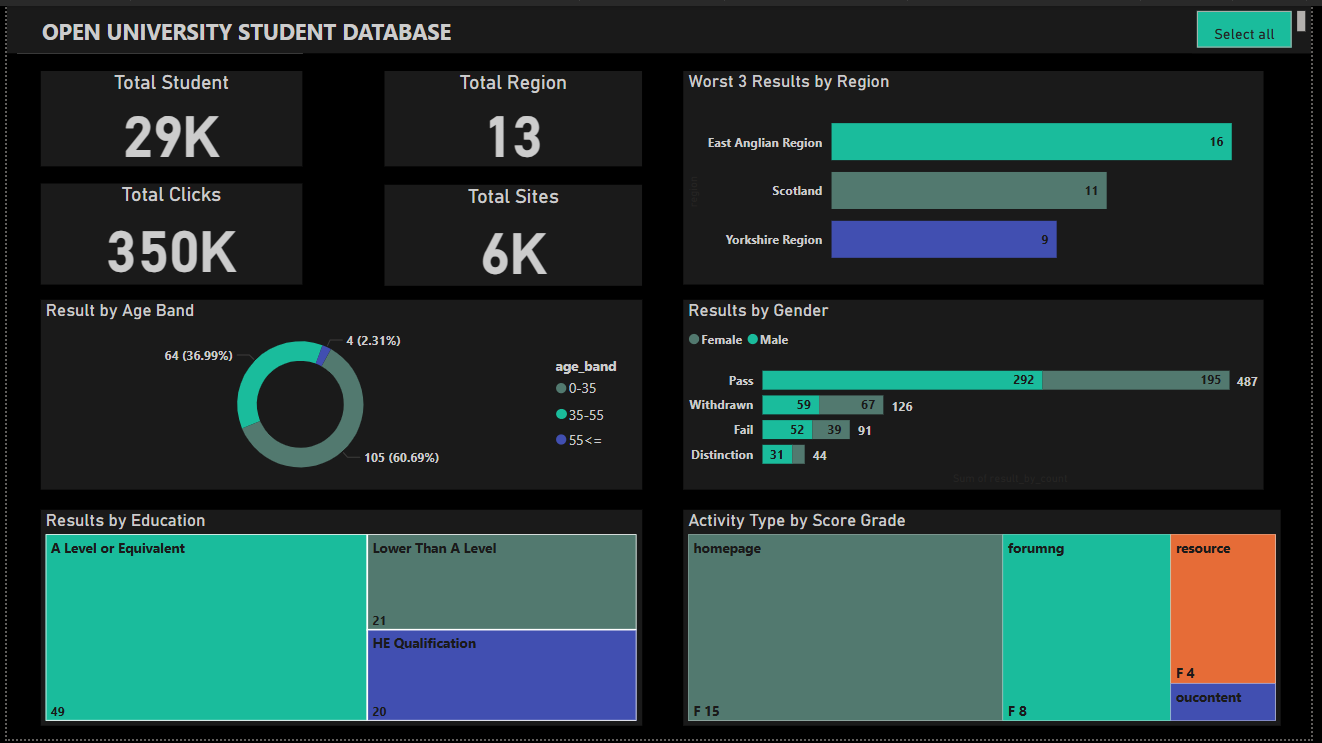

What the dashboard file says about the page in this screenshot:
{"tool":"powerbi","page":{"name":"Page 1","canvas":[1280,720],"ordinal":0},"visuals":[{"type":"textbox","box":[9.6,0,279.9,46.7],"z":0},{"type":"textbox","box":[0,0,1280.3,46.7],"z":1000},{"type":"card","title":"Total Student","fields":{"Values":["Sum(Total Number of Student.total_student)"]},"box":[33.1,63.8,256.4,93.3],"z":2000},{"type":"card","title":"Total Region","fields":{"Values":["Sum(Total Number of Region.total_region)"]},"box":[370.6,63.8,252.8,93.3],"z":3000},{"type":"card","title":"Total Clicks","fields":{"Values":["Sum(Total Clicks.total_clicks)"]},"box":[33.1,174.2,256.4,99.4],"z":4000},{"type":"card","title":"Total Sites","fields":{"Values":["Sum(Total Number of Sites.total_site)"]},"box":[370.6,175.5,252.8,99.4],"z":5000},{"type":"donutChart","title":"Result by Age Band","fields":{"Series":["Result by Age_Band.age_band"],"Y":["Sum(Result by Age_Band.result_count)"]},"box":[33.1,288.3,590.2,186.5],"z":6000},{"type":"barChart","title":"Worst 3 Results by Region","fields":{"Category":["Worst 3 Results by Region.region"],"Y":["Sum(Worst 3 Results by Region.result_by_region)"]},"box":[663.8,63.8,569.3,209.8],"z":7000},{"type":"barChart","title":"Results by Gender","fields":{"Category":["Results by Gender.final_result"],"Y":["Sum(Results by Gender.result_by_count)"],"Series":["Results by Gender.Gender"]},"box":[663.8,288.3,569.3,186.5],"z":8000},{"type":"treemap","title":"Results by Education","fields":{"Details":["Worst 3 Results by Education.highest_education"],"Values":["Sum(Worst 3 Results by Education.result_by_education)"]},"box":[33.1,494.5,590.2,212.3],"z":9000},{"type":"treemap","title":"Activity Type by Score Grade","fields":{"Group":["Activity Type by Score_Grade.activity_type"],"Details":["Activity Type by Score_Grade.score_grade"],"Values":["Sum(Activity Type by Score_Grade.sum_click)"]},"box":[663.8,494.5,586.5,212.3],"z":10000},{"type":"advancedSlicerVisual","fields":{"Values":["Activity Type by Score_Grade.activity_type"]},"box":[1163.2,0,116.6,46.6],"z":11000}]}

Visuals, with their boxes in screenshot pixels (x1, y1, x2, y2), scaled from the page's 1280x720 canvas onto the 1322x743 screenshot:
textbox: BBox(10, 0, 299, 48)
textbox: BBox(0, 0, 1321, 48)
"Total Student" card: BBox(34, 66, 299, 162)
"Total Region" card: BBox(383, 66, 644, 162)
"Total Clicks" card: BBox(34, 180, 299, 282)
"Total Sites" card: BBox(383, 181, 644, 284)
"Result by Age Band" donutChart: BBox(34, 298, 644, 490)
"Worst 3 Results by Region" barChart: BBox(686, 66, 1274, 282)
"Results by Gender" barChart: BBox(686, 298, 1274, 490)
"Results by Education" treemap: BBox(34, 510, 644, 729)
"Activity Type by Score Grade" treemap: BBox(686, 510, 1291, 729)
advancedSlicerVisual - Activity Type by Score_Grade.activity_type: BBox(1201, 0, 1321, 48)
